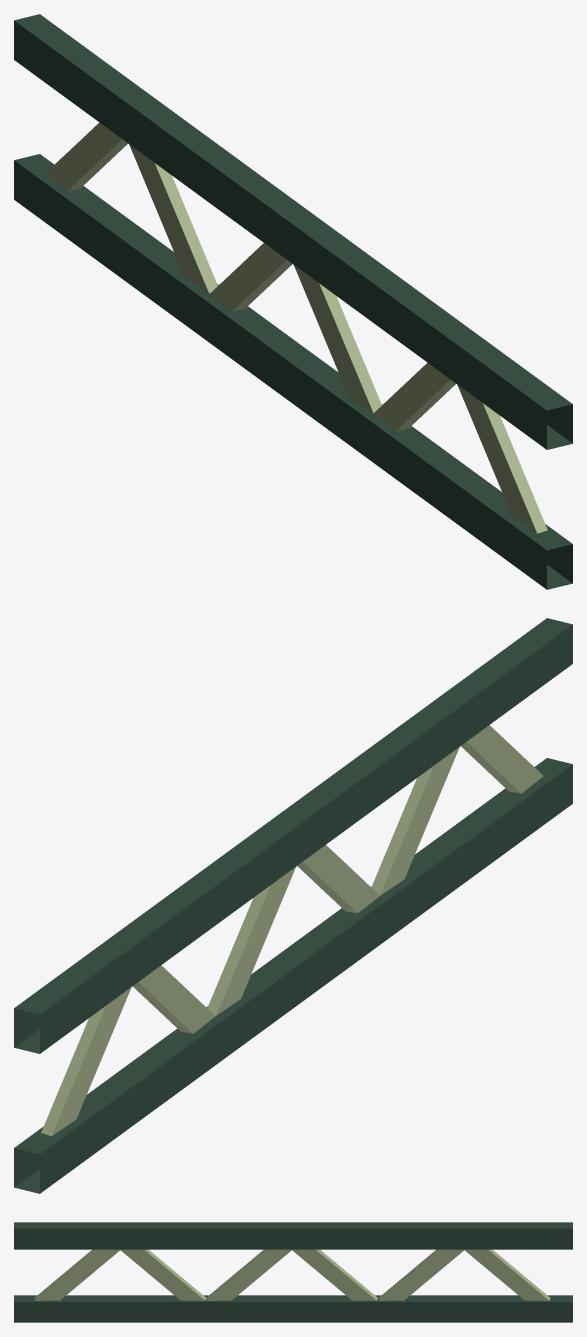
The model's file is SM_Road_part12.fbx.
3 renders of one model, top to bottom at view 1: azimuth 30°, elevation 25°; view 2: azimuth 150°, elevation 25°; view 3: azimuth 270°, elevation 25°, orthographic. The views are drawn at different scales.
Parts seen in each view (by area): view 1: SM_Road_part12; view 2: SM_Road_part12; view 3: SM_Road_part12.
Boxes of the visible parts, x1,y1,x2,y2 form: SM_Road_part12: [14, 14, 572, 589]; SM_Road_part12: [14, 618, 572, 1193]; SM_Road_part12: [14, 1222, 572, 1322].
Bounding box in the file's own units: 72.7 × 481 × 2591.
